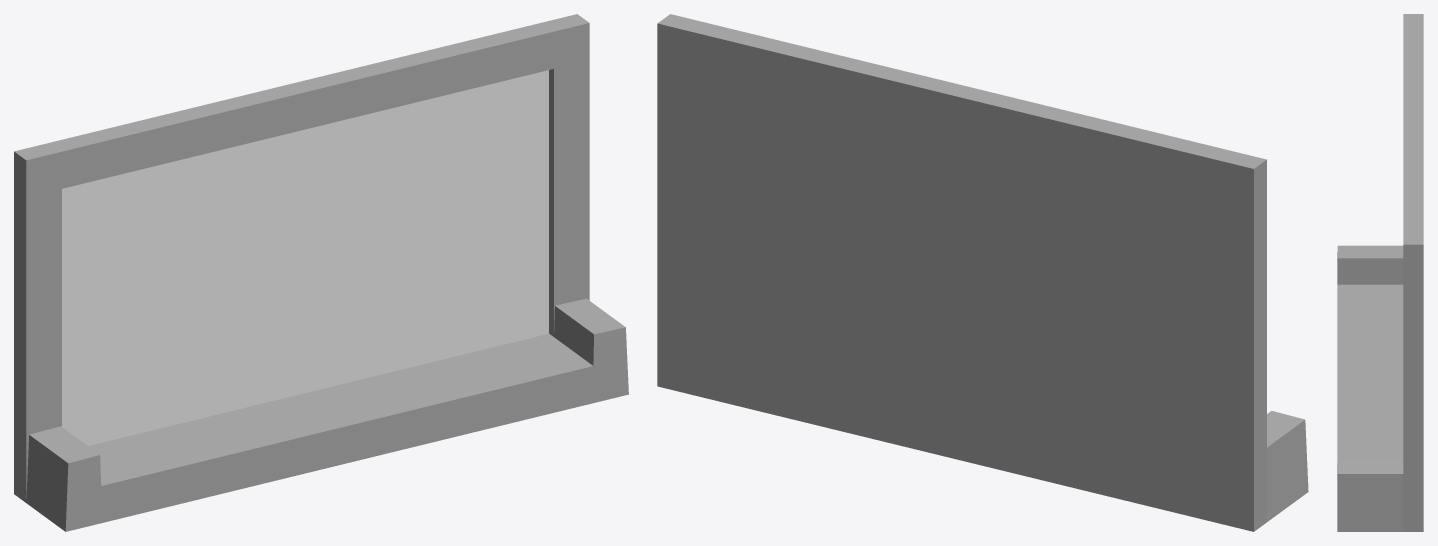
File: Whiteboard.fbx
3 views of the same model, side by side, from view 1: azimuth 30°, elevation 25°; view 2: azimuth 150°, elevation 25°; view 3: azimuth 270°, elevation 25° (orthographic). The views are drawn at different scales.
Visible parts, largest first — view 1: Whiteboard1; view 2: Whiteboard1; view 3: Whiteboard1.
Part boxes in pixels (x1,y1,x2,y2): Whiteboard1: [14, 14, 628, 531]; Whiteboard1: [657, 14, 1308, 531]; Whiteboard1: [1337, 14, 1423, 531].
Size of the model in its own units: 180 by 105 by 28.54.
